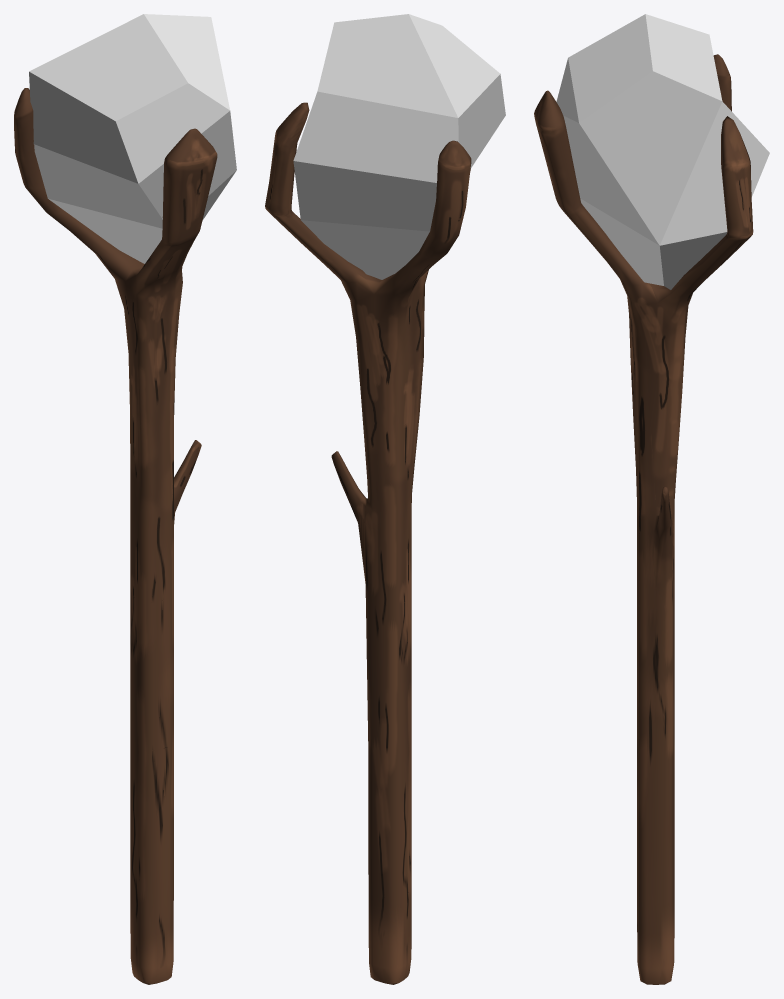
File: baston001.fbx
3 views of the same model, side by side, from view 1: azimuth 30°, elevation 25°; view 2: azimuth 150°, elevation 25°; view 3: azimuth 270°, elevation 25° (orthographic).
Parts seen in each view (by area): view 1: Cube, Cube.001; view 2: Cube, Cube.001; view 3: Cube, Cube.001.
Part boxes in pixels (box(x1,y1,x2,y2)): Cube: box(14, 88, 217, 984); Cube.001: box(29, 14, 236, 263); Cube: box(265, 102, 471, 984); Cube.001: box(293, 14, 505, 279); Cube: box(534, 54, 753, 984); Cube.001: box(556, 14, 769, 289).
Bounding box in the file's own units: 48.09 × 229 × 50.85.
2 materials, 1 textured.
